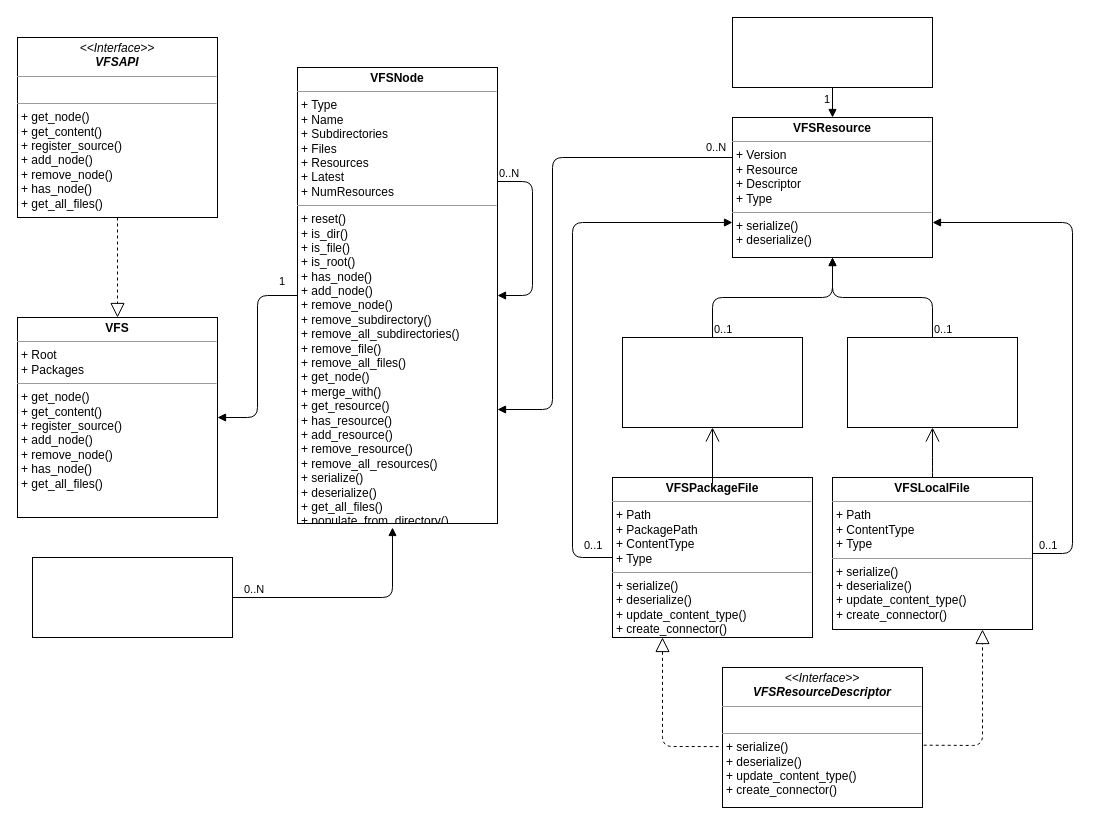
Image size: 1098x825. Some labels were removed from this diagram. The box of each missing label's shape, as (x1, y1, x2, y2) in pixels:
ResourceVersion + Version: (732, 16, 932, 88)
VFSLocalFileConnector + load(): (846, 336, 1018, 428)
VFSPackage + Path: (32, 556, 232, 638)
VFSPackageFileConnector + load(): (622, 336, 802, 428)
